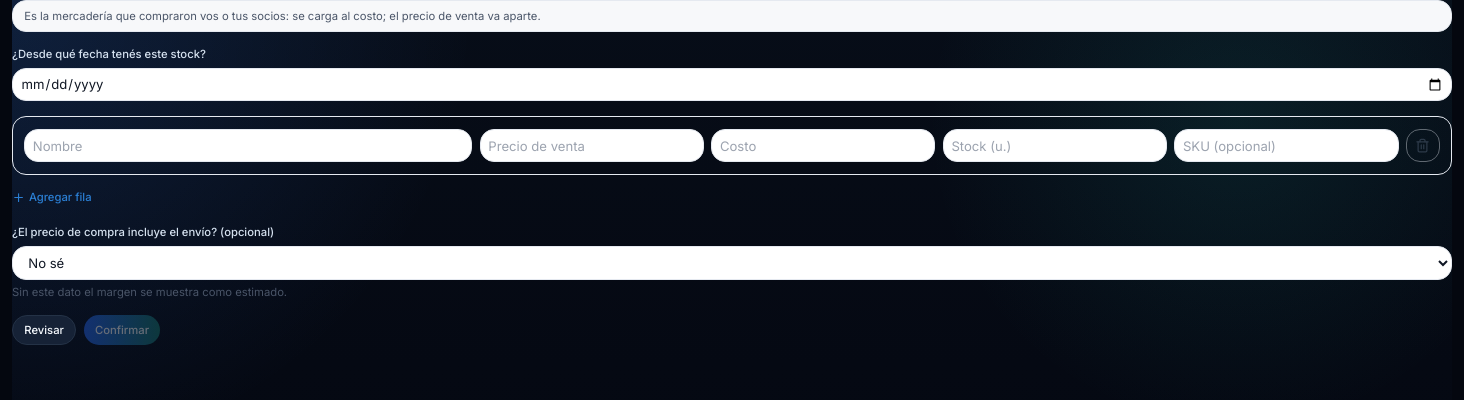
Test: PRODUCTS_BEING_CREATED avisa que se reintente
In the field named "Nombre, fila 1": (248, 146) x1=24 y1=129 x2=472 y2=162, type "Vela aromática"
In the field named "Precio de venta, fila 1": (592, 146) x1=480 y1=129 x2=704 y2=162, type "3000"
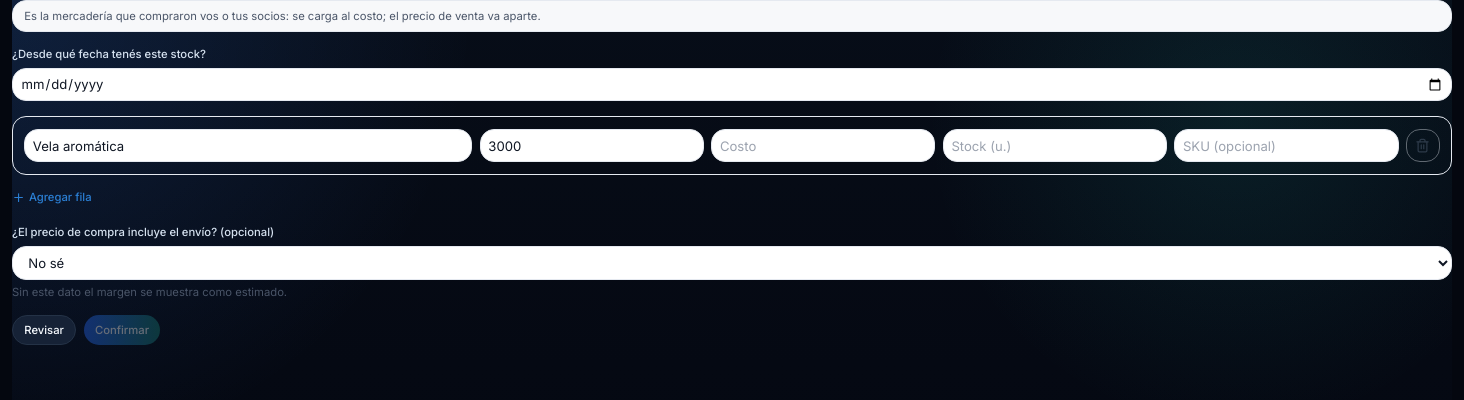
In the field named "Costo, fila 1": (823, 146) x1=711 y1=129 x2=935 y2=162, type "1200"
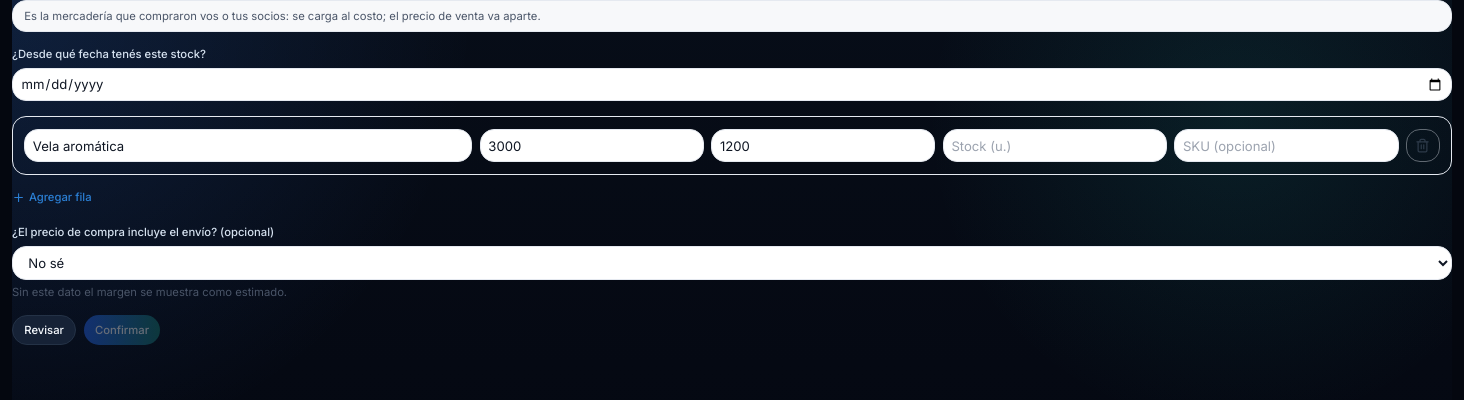
In the field named "Stock, fila 1": (1055, 146) x1=943 y1=129 x2=1167 y2=162, type "10"
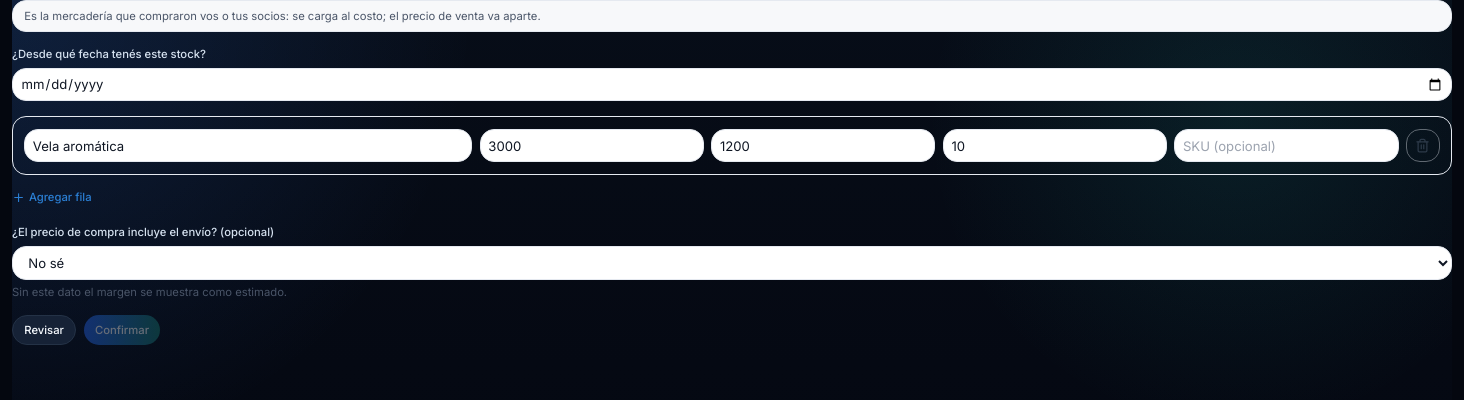
In the date field labelled "¿Desde qué fecha tenés este stock?": (732, 84) x1=12 y1=68 x2=1452 y2=101, type "2026-08-01"
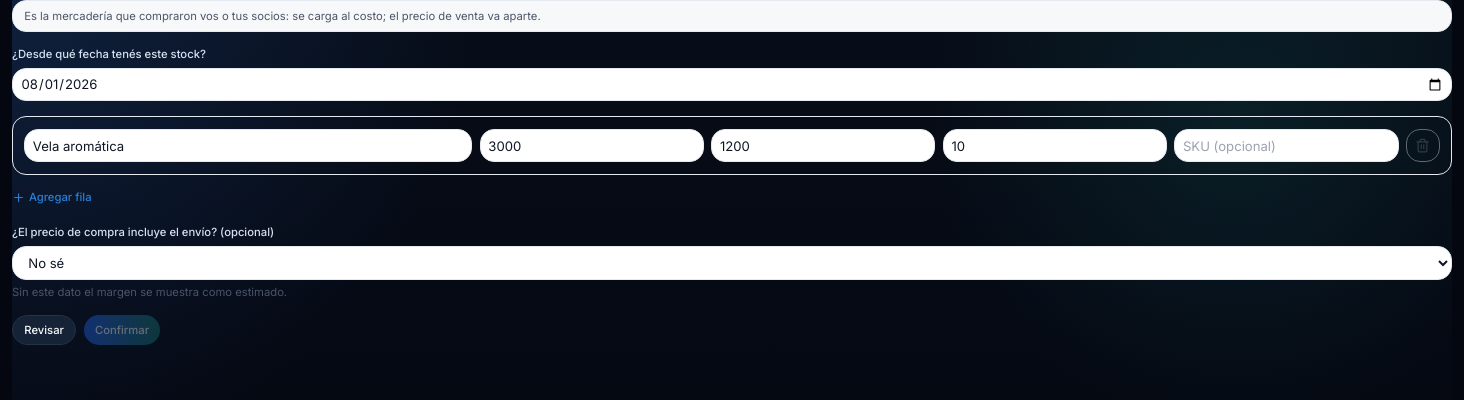
Click the button "Revisar": click(44, 330) x1=12 y1=315 x2=76 y2=345
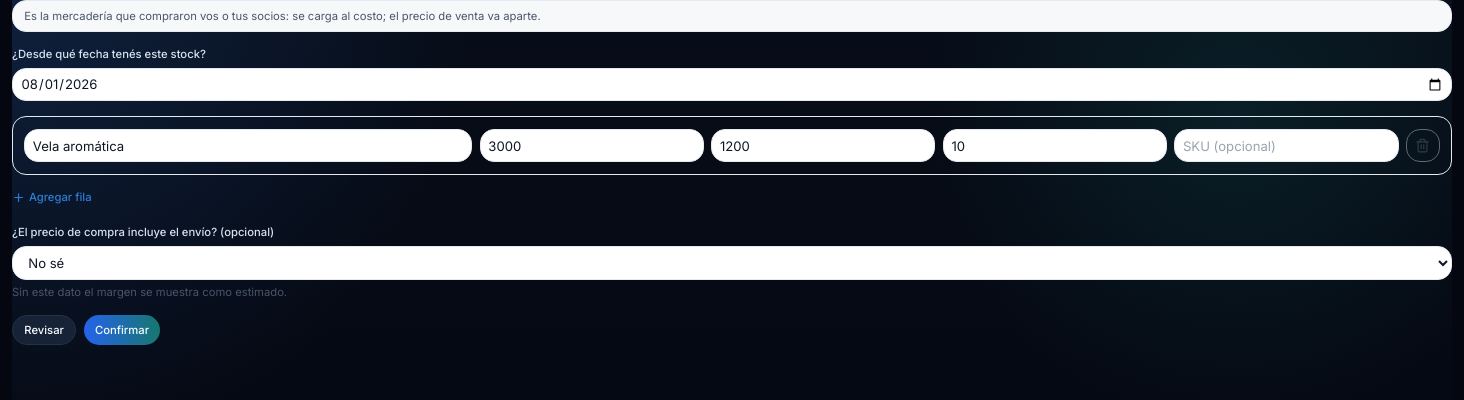
Expected: the button "Confirmar" is enabled
Click the button "Confirmar": click(122, 330) x1=84 y1=315 x2=160 y2=345
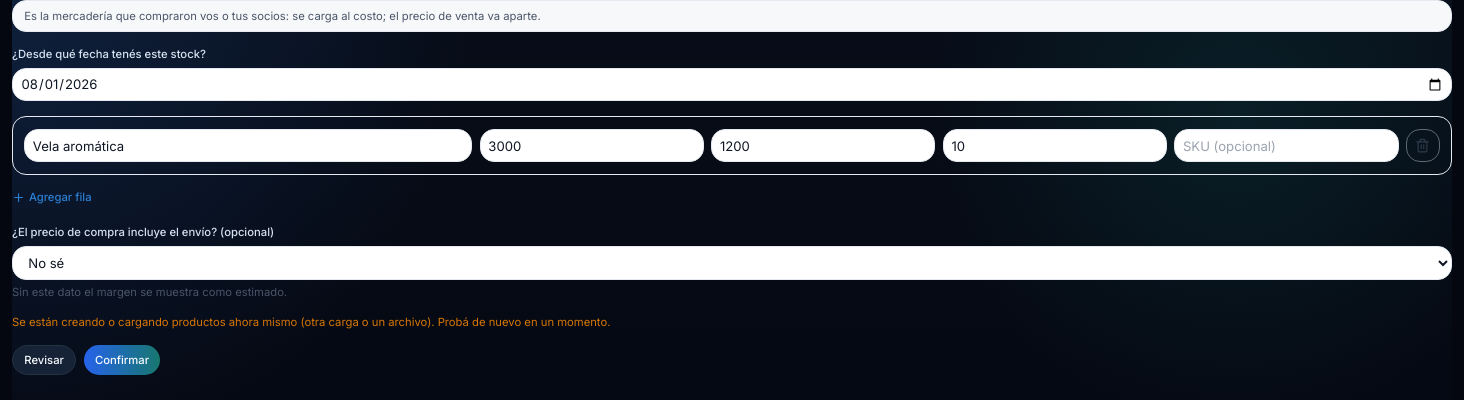
Expected: the text "Probá de nuevo en un momento" is shown, x1=12 y1=315 x2=610 y2=329
